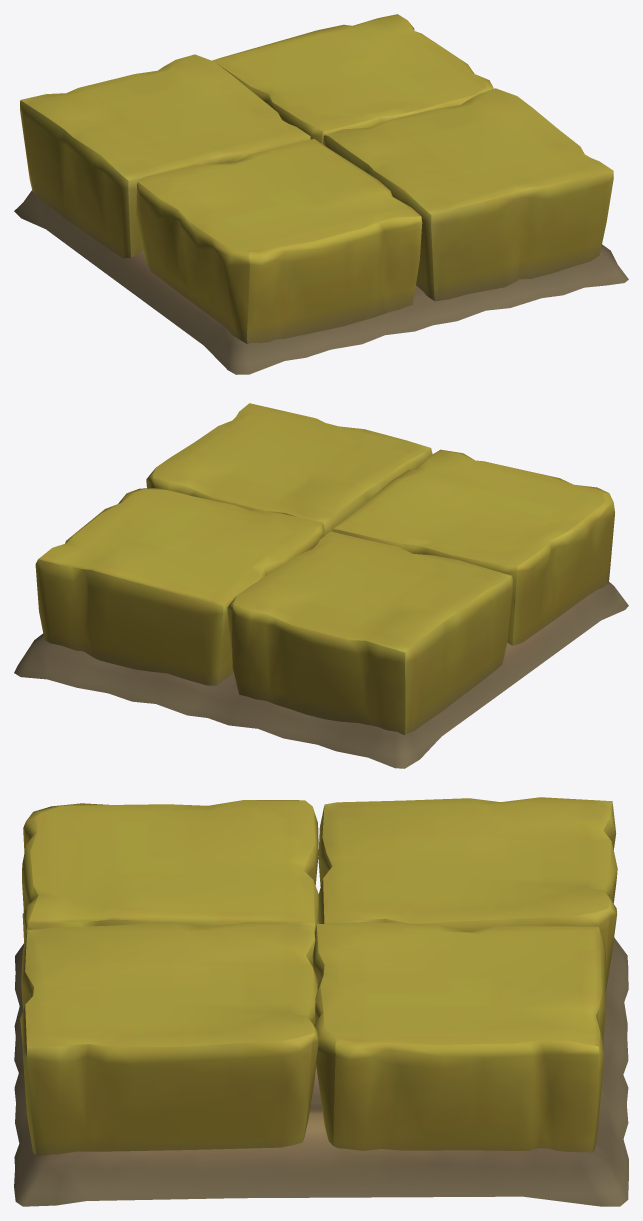
Rendered from SM_Crop_Wheat_02.glb.
3 views of the same model, one above another, from view 1: azimuth 30°, elevation 25°; view 2: azimuth 150°, elevation 25°; view 3: azimuth 270°, elevation 25° (orthographic). The views are drawn at different scales.
Visible parts, largest first — view 1: SM_Crop_Wheat_02; view 2: SM_Crop_Wheat_02; view 3: SM_Crop_Wheat_02.
Part boxes in pixels (left/top/right/bottom): SM_Crop_Wheat_02: left=14, top=14, right=628, bottom=374; SM_Crop_Wheat_02: left=14, top=403, right=628, bottom=768; SM_Crop_Wheat_02: left=14, top=797, right=628, bottom=1206.
Size of the model in its own units: 3.94 by 1.12 by 3.93.
1 material, 1 textured.
